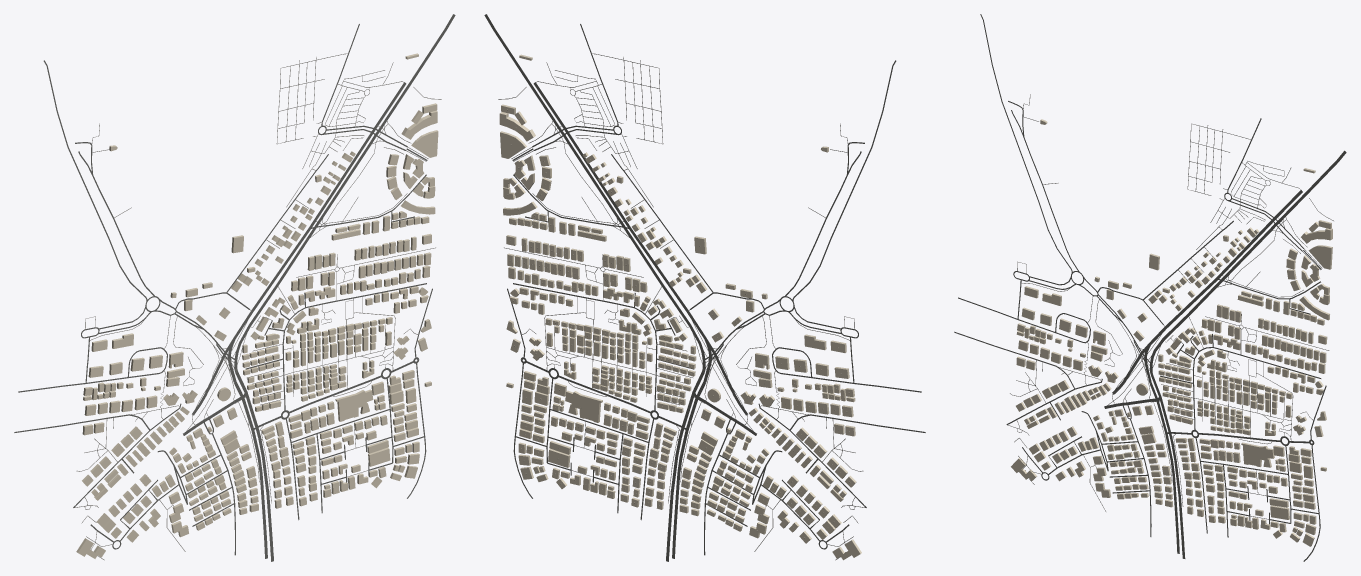
Rendered from historic-palestine-06_27_3482_3212.glb.
3 views of the same model, side by side, from view 1: azimuth 30°, elevation 25°; view 2: azimuth 150°, elevation 25°; view 3: azimuth 330°, elevation 25° (orthographic). The views are drawn at different scales.
Visible parts, largest first — view 1: Road משה סנה.004, Road משה סנה.008, Building_.477, Road משה סנה, Road משה סנה.003; view 2: Road משה סנה.004, Building_.477, Road משה סנה.008, Road משה סנה, Road משה סנה.003; view 3: Road משה סנה.004, Building_.477, Road משה סנה.008, Road משה סנה, Road משה סנה.003.
Part boxes in pixels (left/top/right/bottom): Road משה סנה.004: left=234, top=14, right=455, bottom=360; Road משה סנה.008: left=233, top=125, right=377, bottom=338; Building_.477: left=335, top=389, right=373, bottom=421; Road משה סנה: left=234, top=360, right=273, bottom=561; Road משה סנה.003: left=241, top=397, right=267, bottom=558; Road משה סנה.004: left=484, top=14, right=705, bottom=360; Building_.477: left=565, top=390, right=602, bottom=422; Road משה סנה.008: left=562, top=125, right=706, bottom=338; Road משה סנה: left=666, top=360, right=705, bottom=561; Road משה סנה.003: left=672, top=396, right=698, bottom=558; Road משה סנה.004: left=1150, top=150, right=1346, bottom=364; Building_.477: left=1241, top=442, right=1274, bottom=467; Road משה סנה.008: left=1149, top=215, right=1277, bottom=344; Road משה סנה: left=1150, top=363, right=1185, bottom=558; Road משה סנה.003: left=1156, top=399, right=1179, bottom=553.
Bounding box in the file's own units: 1212 × 1462 × 13.59.
